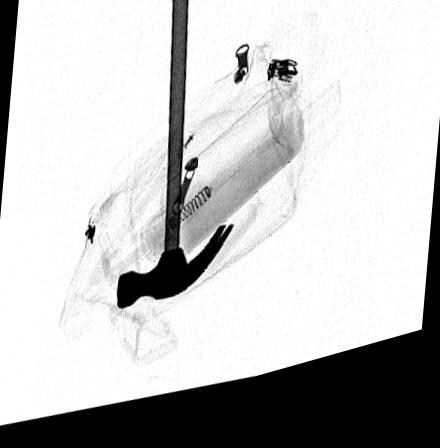Hammer: (116, 0, 235, 316)
